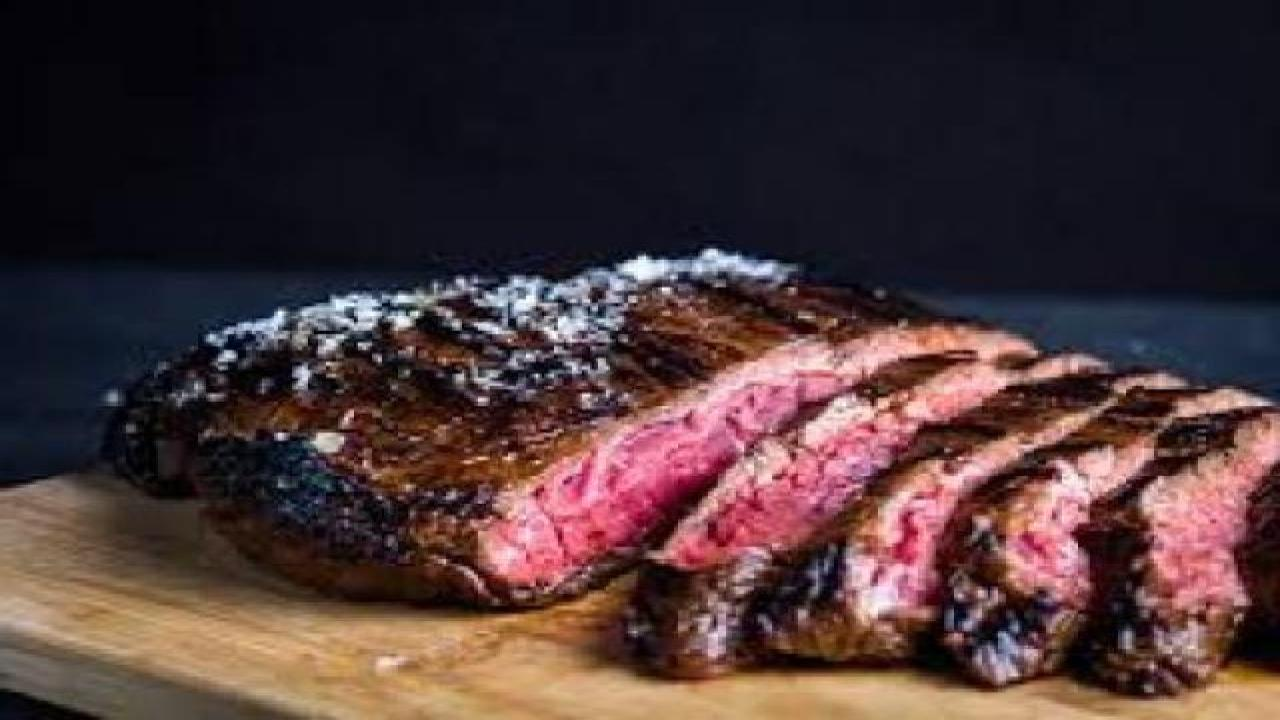Carne: (141, 213, 672, 599), (640, 314, 1112, 671), (486, 304, 1046, 570), (783, 347, 1110, 670), (955, 376, 1228, 674), (1096, 389, 1266, 685)
